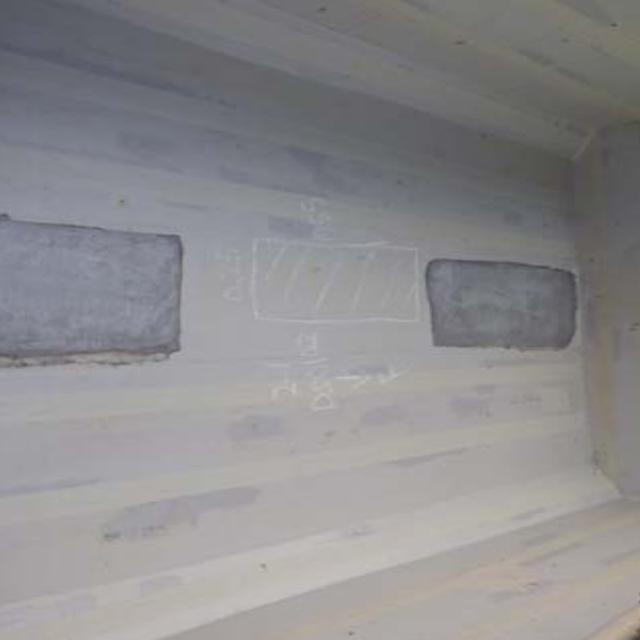spalling: (7, 190, 200, 389), (413, 241, 590, 366)
